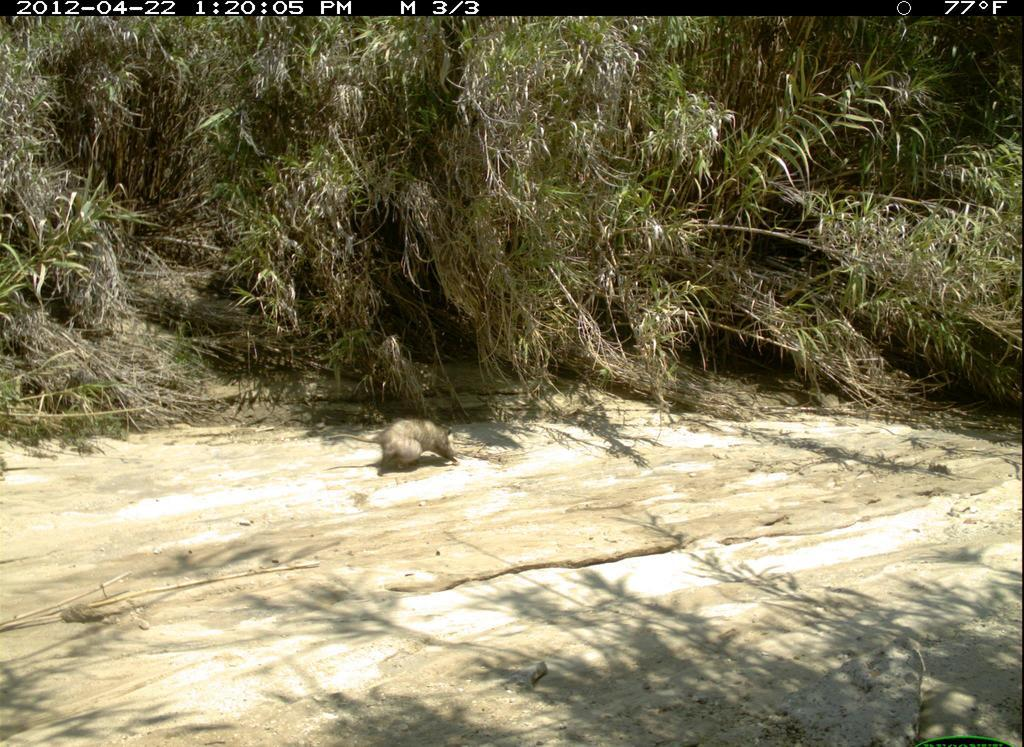opossum: (314, 406, 475, 483)
